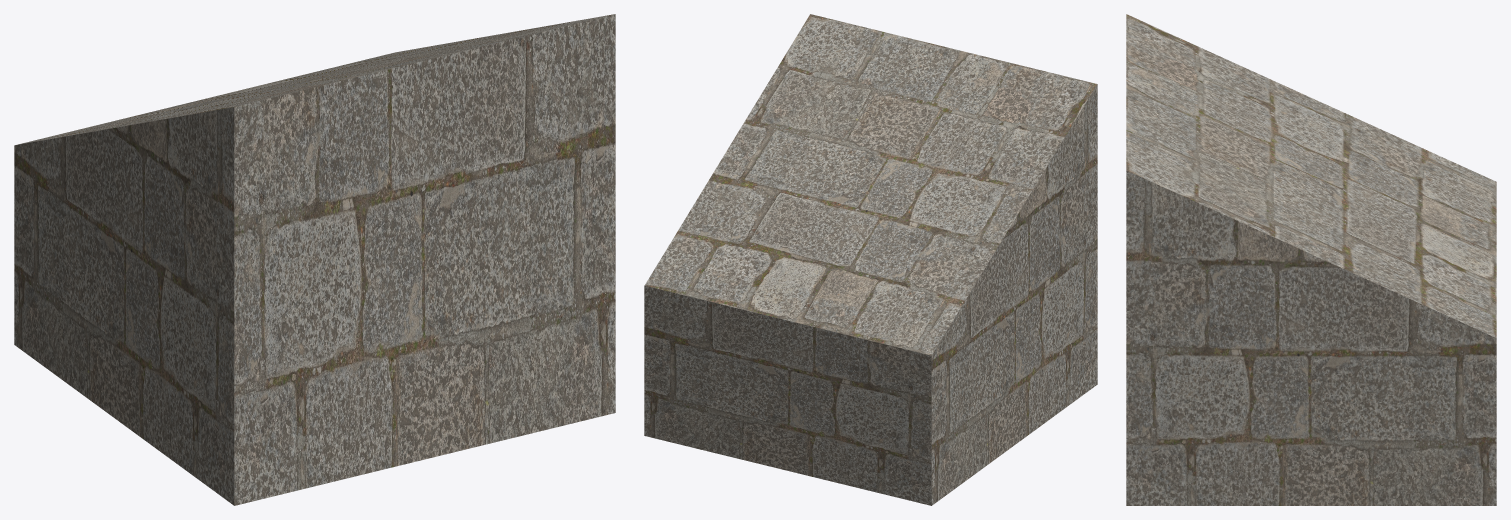
File: 0007-Ramp-30-col.glb
3 renders of one model, left to right at view 1: azimuth 30°, elevation 25°; view 2: azimuth 150°, elevation 25°; view 3: azimuth 270°, elevation 25°, orthographic. The views are drawn at different scales.
Visible parts, largest first — view 1: 0007-Ramp-30-col; view 2: 0007-Ramp-30-col; view 3: 0007-Ramp-30-col.
Boxes of the visible parts, bbox=[...] form: 0007-Ramp-30-col: bbox=[14, 14, 615, 505]; 0007-Ramp-30-col: bbox=[644, 14, 1097, 505]; 0007-Ramp-30-col: bbox=[1126, 14, 1496, 505].
Bounding box in the file's own units: 2 × 2 × 2.
1 material, 1 textured.
